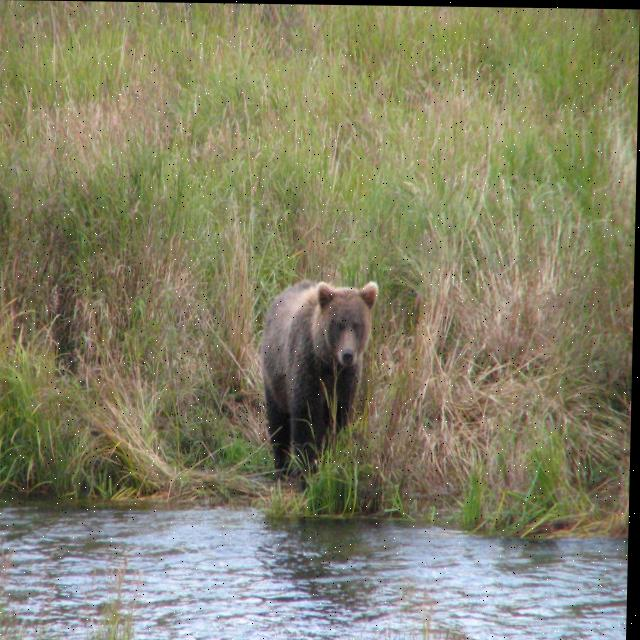bear face: (264, 275, 380, 475)
